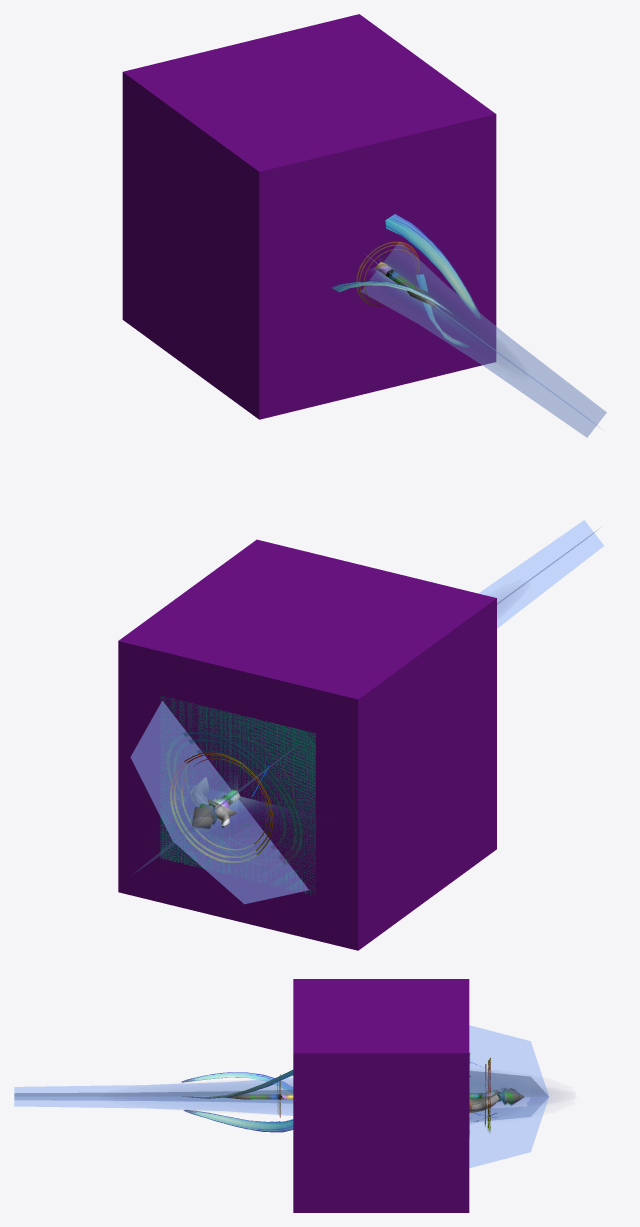
The picture shows the model from 3 angles, top to bottom: view 1: azimuth 30°, elevation 25°; view 2: azimuth 150°, elevation 25°; view 3: azimuth 270°, elevation 25°; orthographic projection. The views are drawn at different scales.
Parts seen in each view (by area): view 1: object0170_Box, object0068_Plane41, "object0062_Editable Mesh", object0048_Plane033, "object0130_Editable Mesh"; view 2: object0170_Box, object0068_Plane41, object0173_Box, "object0136_Editable Poly", "object0058_Editable Mesh", "object0085_Editable Mesh", object0005_W134; view 3: object0170_Box, object0068_Plane41, object0005_W134, object0040_Plane022, "object0062_Editable Mesh", object0029_Plane011, object0048_Plane033.
Part boxes in pixels (x1,y1,x2,y2): object0170_Box: (122,14,496,419); object0068_Plane41: (361,241,606,437); "object0062_Editable Mesh": (369,252,503,358); object0048_Plane033: (385,214,480,318); "object0130_Editable Mesh": (356,241,419,306); object0170_Box: (118,539,496,950); object0068_Plane41: (130,520,603,903); object0173_Box: (160,696,315,894); "object0136_Editable Poly": (166,731,303,865); "object0058_Editable Mesh": (165,772,258,853); "object0085_Editable Mesh": (170,752,273,862); object0005_W134: (190,772,253,831); object0170_Box: (293,979,469,1212); object0068_Plane41: (14,1025,548,1167); object0005_W134: (225,1076,524,1113); object0040_Plane022: (183,1062,491,1132); "object0062_Editable Mesh": (151,1086,292,1102); object0029_Plane011: (181,1072,496,1121); object0048_Plane033: (182,1070,497,1117).
Size of the model in its own units: 1.09 by 0.8868 by 3.08.
